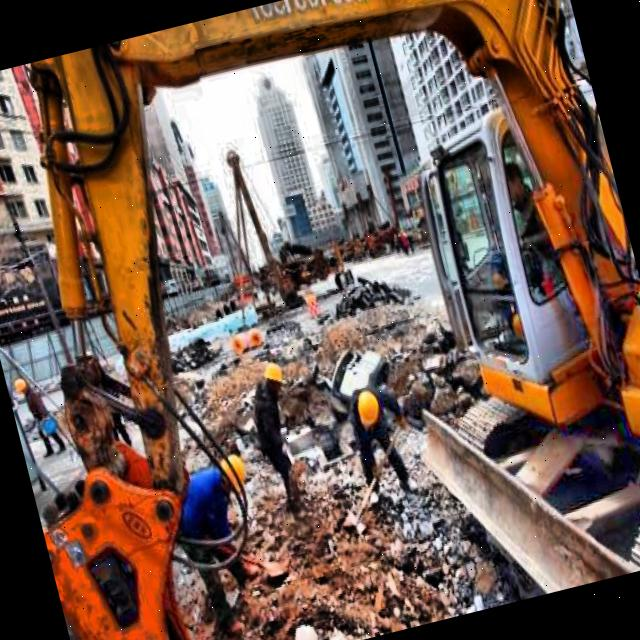helmet: (210, 448, 257, 504), (346, 385, 384, 436), (260, 357, 286, 395)
